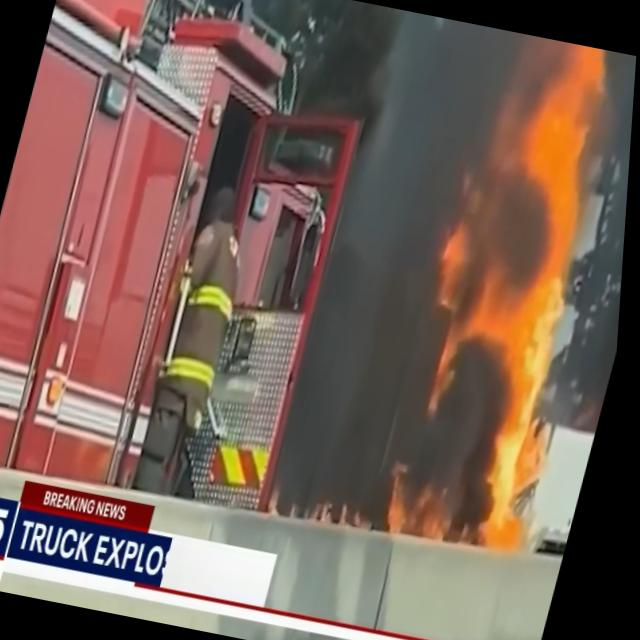Fire: (374, 29, 638, 563), (210, 433, 276, 492)
